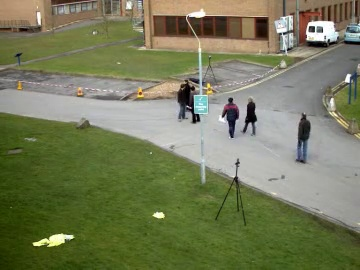person: (176, 80, 194, 120), (176, 80, 194, 119), (176, 81, 193, 120)
